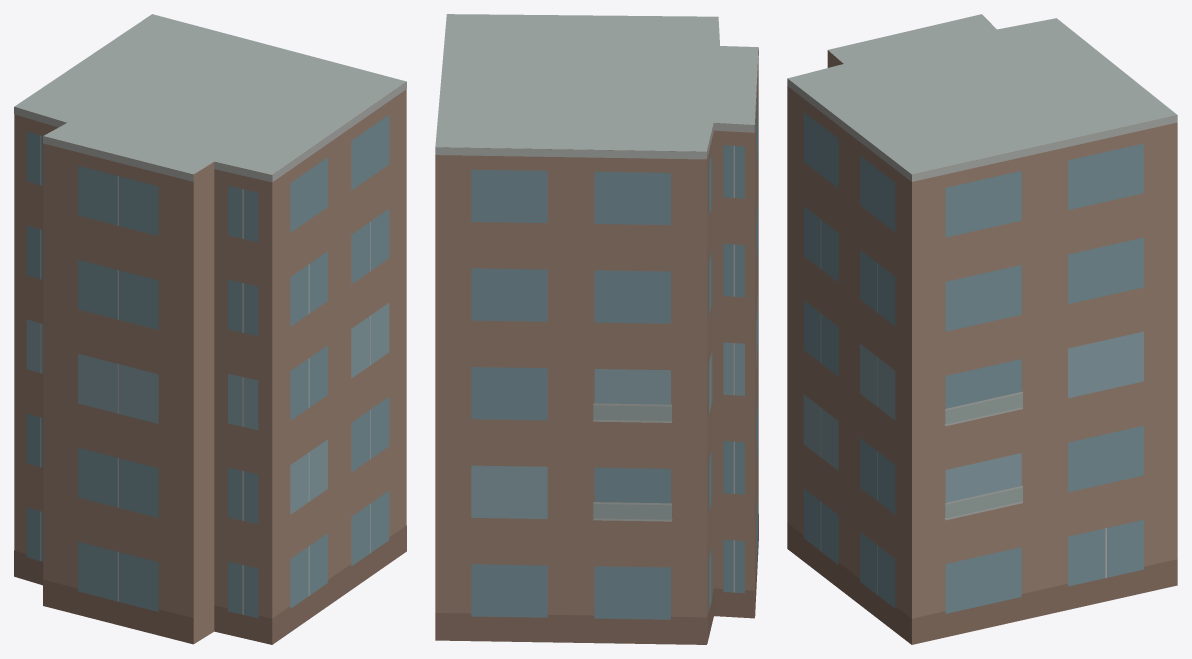
Rendered from survey-upis-32761893.glb.
3 views of the same model, side by side, from view 1: azimuth 30°, elevation 25°; view 2: azimuth 150°, elevation 25°; view 3: azimuth 270°, elevation 25° (orthographic). The views are drawn at different scales.
Parts seen in each view (by area): view 1: survey-upis-32761893.tmp; view 2: survey-upis-32761893.tmp; view 3: survey-upis-32761893.tmp.
Part boxes in pixels (left/top/right/bottom): survey-upis-32761893.tmp: left=14, top=14, right=406, bottom=644; survey-upis-32761893.tmp: left=435, top=14, right=758, bottom=644; survey-upis-32761893.tmp: left=787, top=14, right=1177, bottom=644.
Size of the model in its own units: 11.24 by 15.35 by 11.55.
